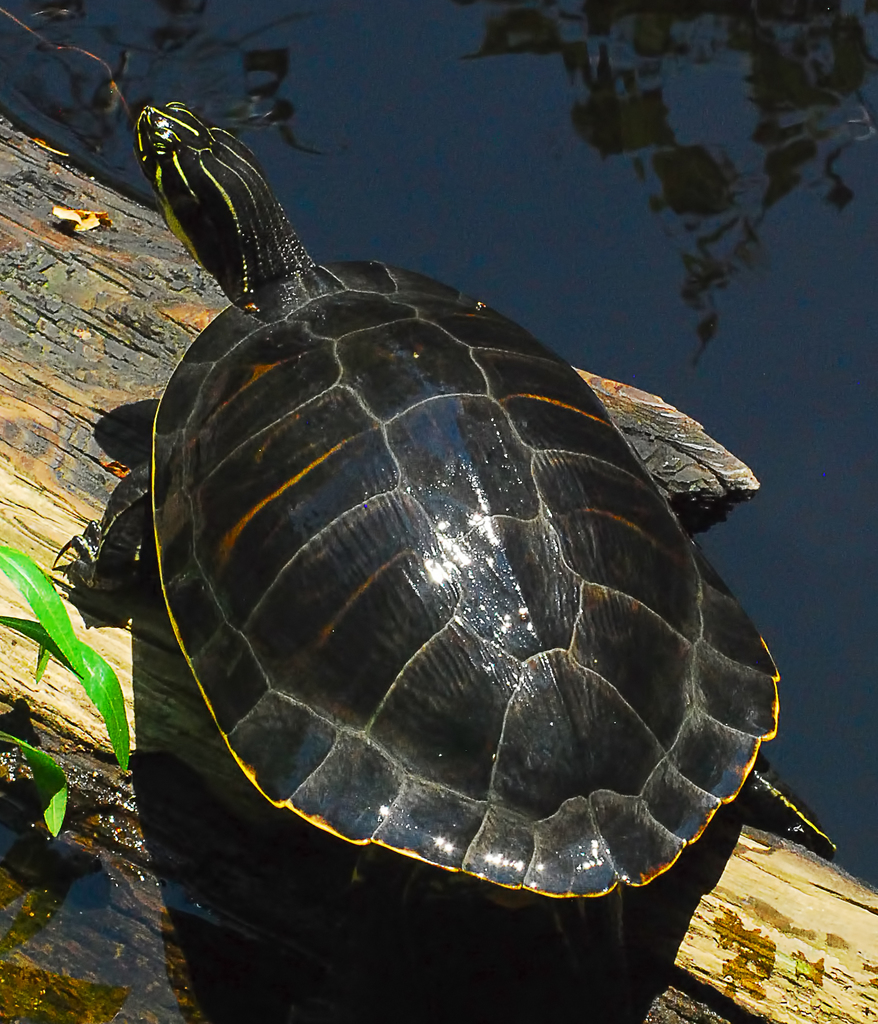Sea turtles: (48, 100, 840, 919)
